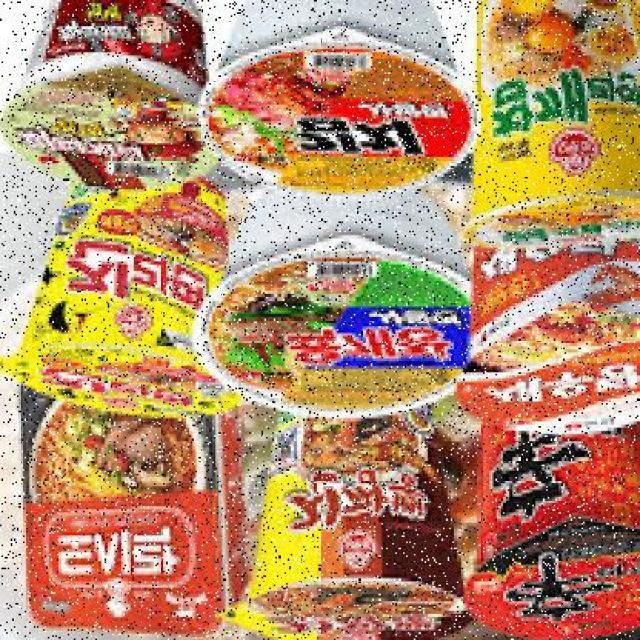Miscellaneous: (184, 185, 496, 422), (232, 381, 483, 640), (202, 0, 487, 209), (12, 162, 240, 410), (451, 176, 640, 435), (463, 384, 640, 640), (460, 0, 638, 249), (9, 0, 232, 189)
